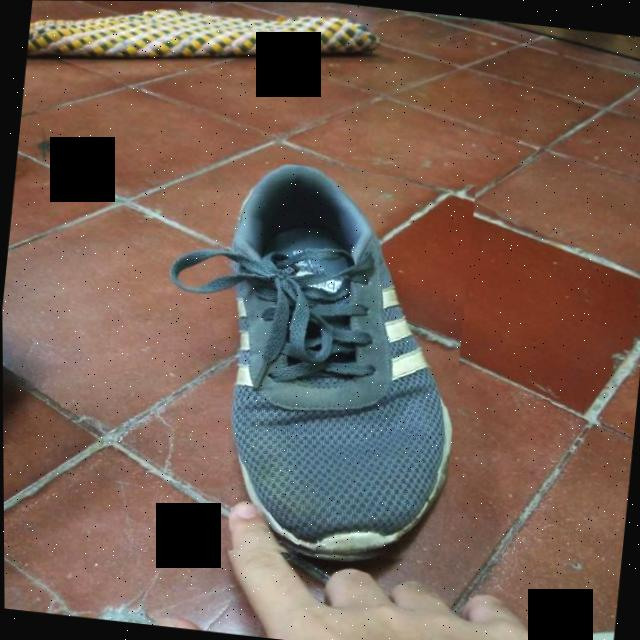shoe: (196, 158, 478, 574)
